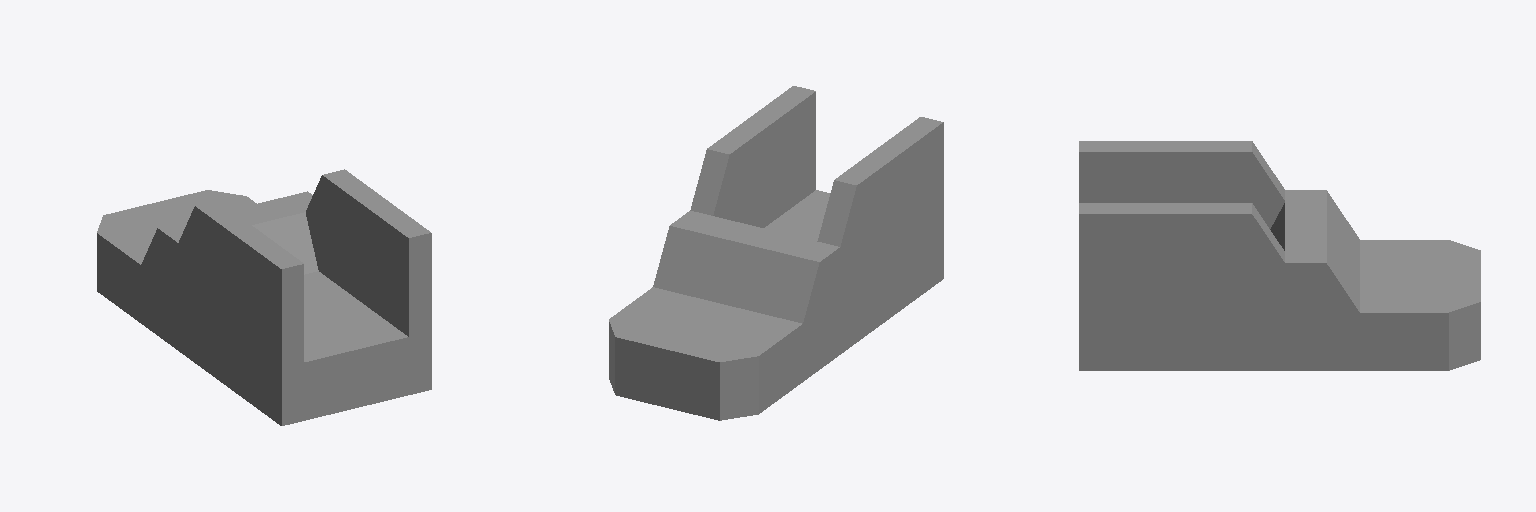
Rendered from daiza.obj.
The picture shows the model from 3 angles: view 1: azimuth 30°, elevation 25°; view 2: azimuth 150°, elevation 25°; view 3: azimuth 270°, elevation 25°; orthographic projection.
Visible parts, largest first — view 1: daiza; view 2: daiza; view 3: daiza.
Boxes of the visible parts, x1,y1,x2,y2 form: daiza: [97, 169, 431, 425]; daiza: [609, 86, 943, 420]; daiza: [1079, 141, 1480, 370].
Size of the model in its own units: 0.4624 by 0.4624 by 1.07.